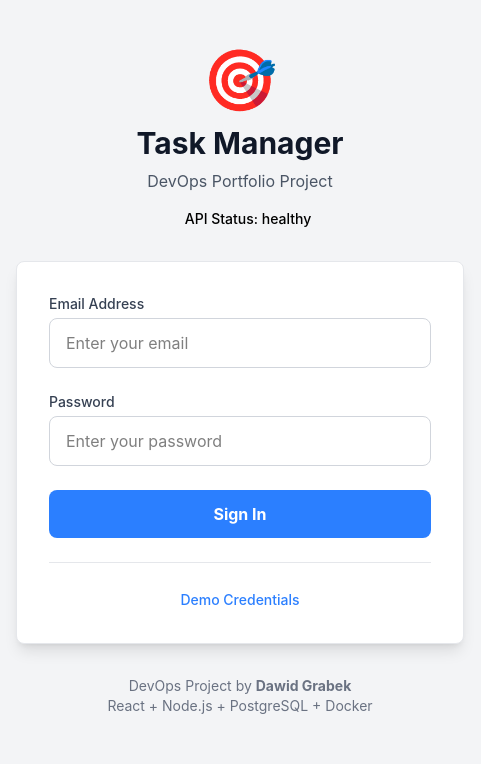
Test: LoginForm › shows error message when login fails
Type "user@example.com" into the field labelled "Email Address". click: coordinates (240, 342)
box: [49, 318, 431, 368]
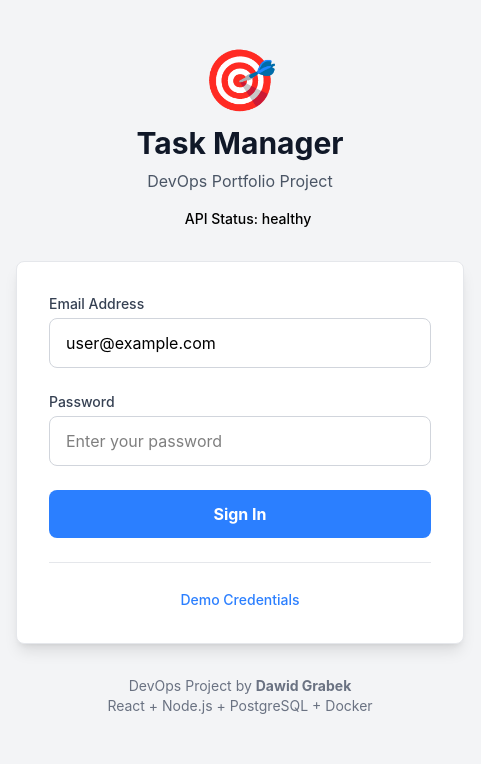
Type "wrongpassword" into the password field labelled "Password". click: coordinates (240, 440)
box: [49, 416, 431, 466]
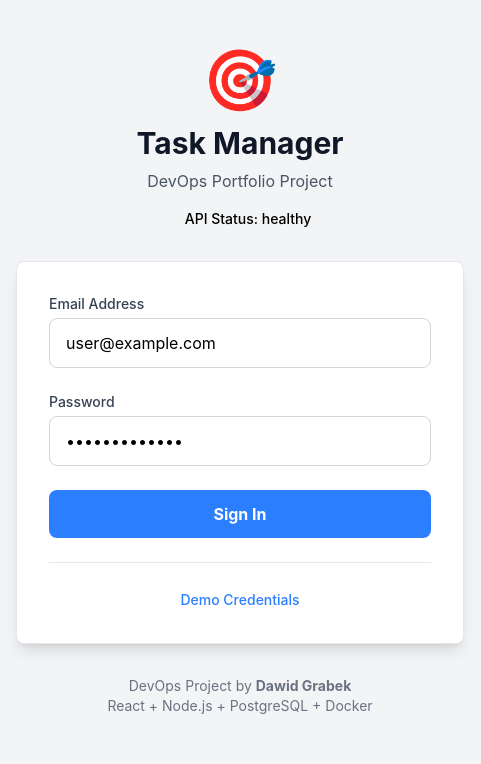
Click the button "Sign In". click: coordinates (240, 514)
box: [49, 490, 431, 538]
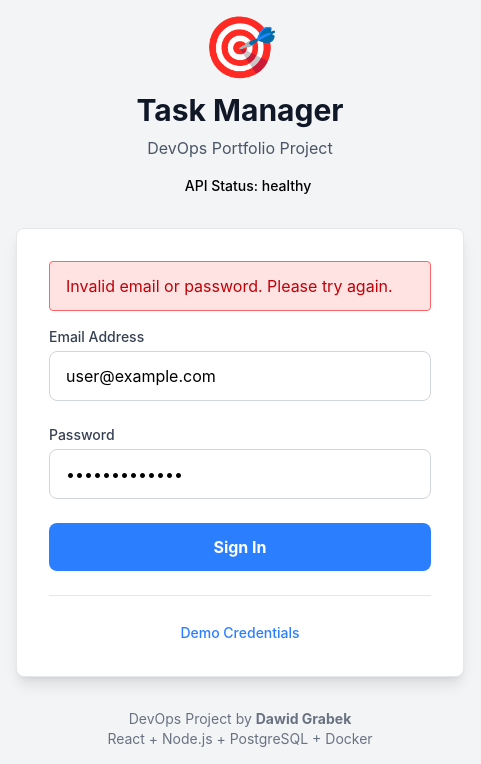
Now the text "Invalid email or password. Please try again." is shown, box [49, 260, 431, 310]
